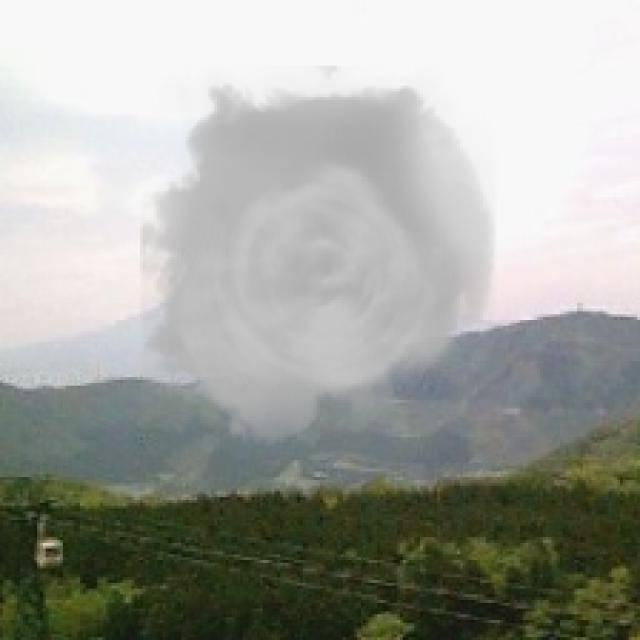smoke: (140, 66, 497, 457)
